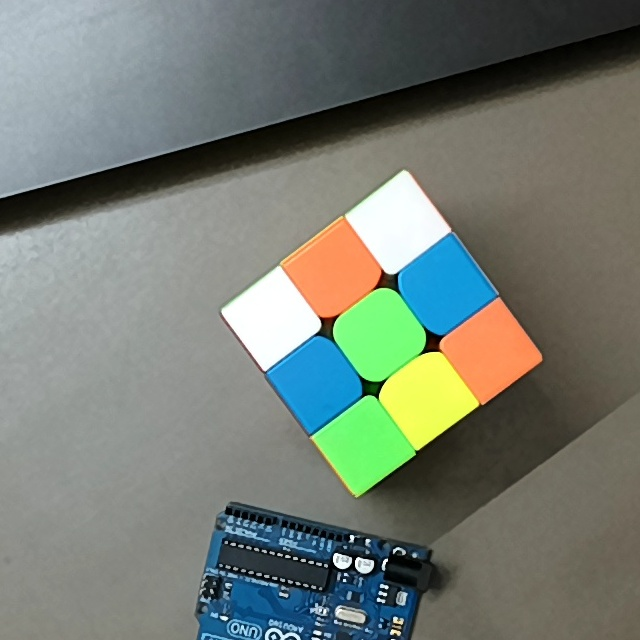tile: (247, 291, 298, 350), (337, 418, 392, 472), (351, 307, 404, 363), (466, 324, 518, 379), (309, 245, 363, 297), (419, 260, 470, 315), (374, 195, 424, 250), (291, 359, 344, 410), (403, 372, 451, 423)
